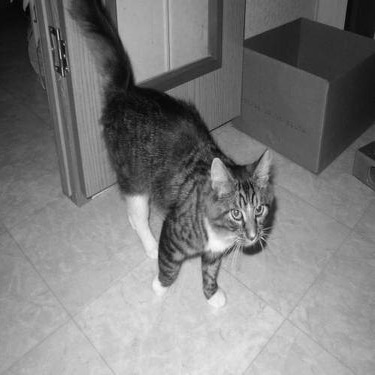cat: (64, 1, 275, 309)
